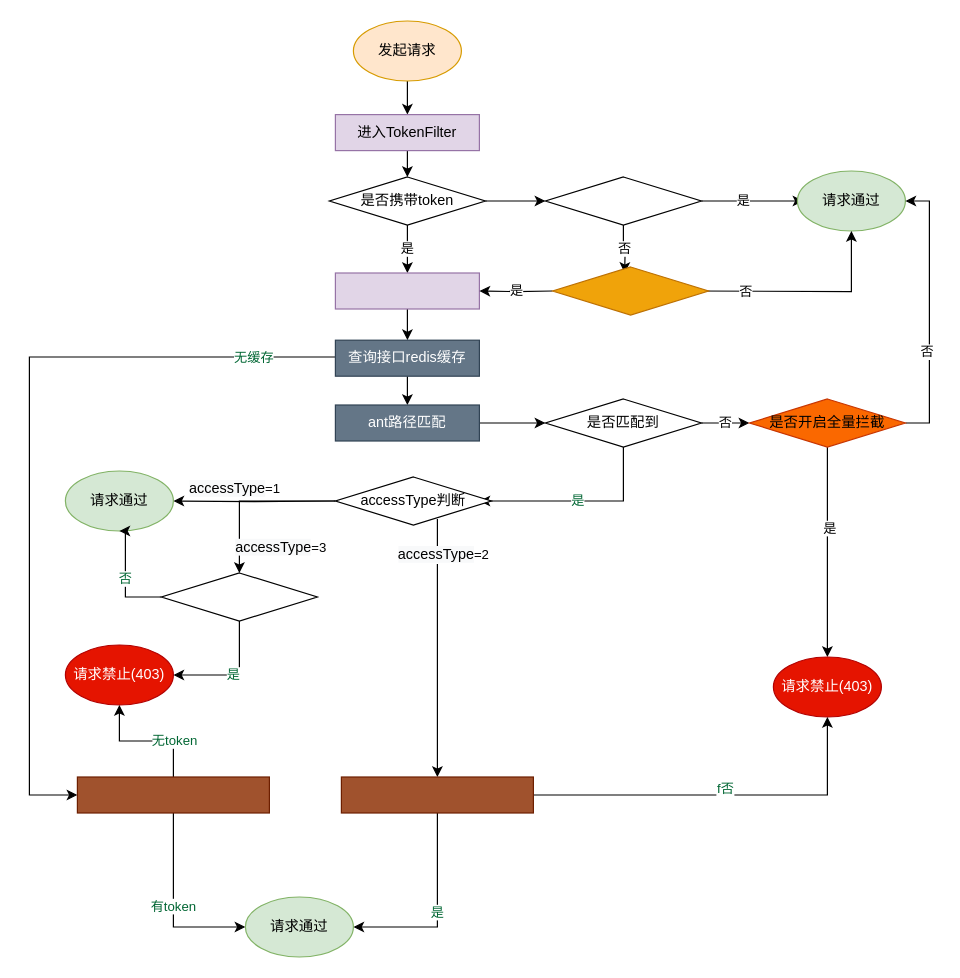
This 960x978 diagram has some shape labels left out. Here are the shapes that lost their labels. From the top down, the box of each, then its label:
(544, 176, 701, 225): 是否白名单
(334, 272, 479, 309): 进入AuthFilter
(551, 266, 709, 315): 是否开启权限校验
(160, 572, 317, 621): token是否为空
(76, 776, 269, 813): 添加接口数据到redis缓存
(340, 776, 533, 813): 判断用户是否有该接口权限
